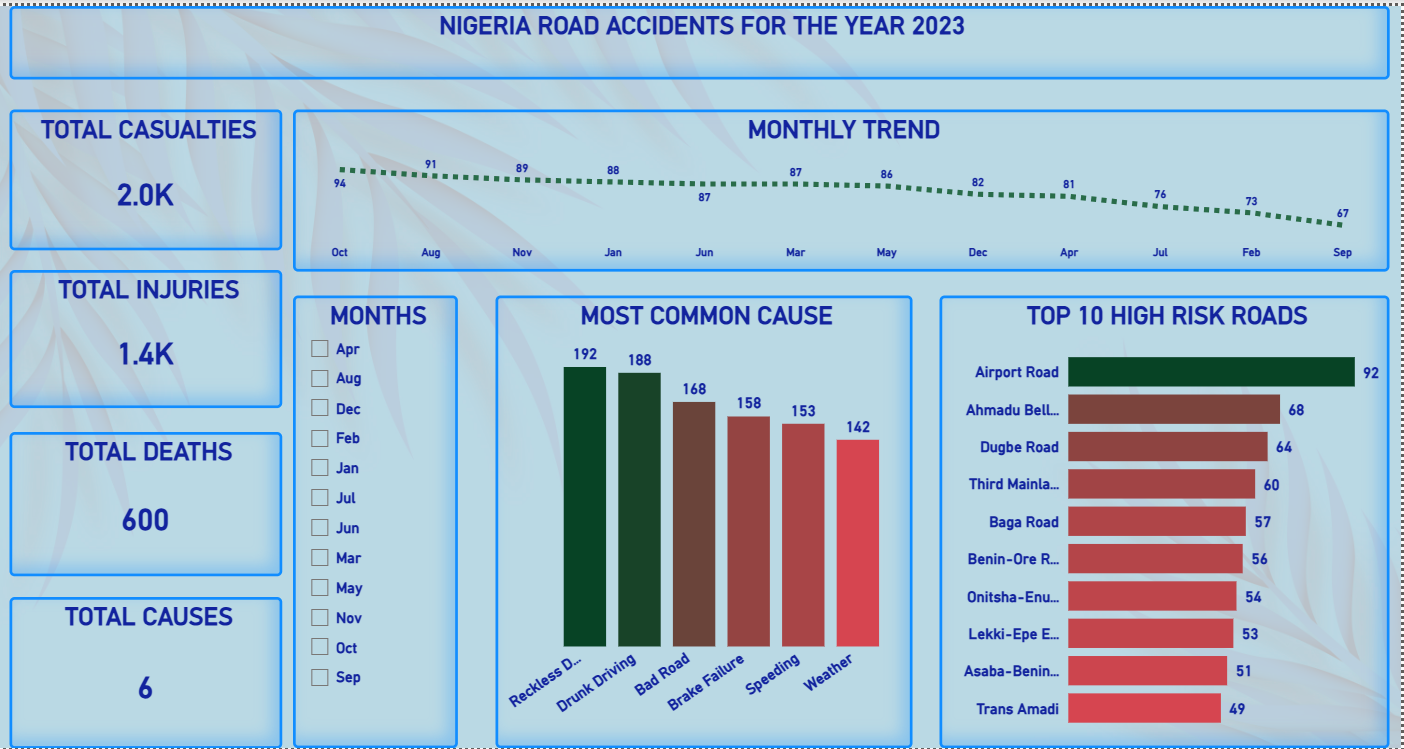

Layout of this report page (visuals, bound fields, positions):
{"tool":"powerbi","page":{"name":"Page 1","canvas":[1360,720],"ordinal":0},"visuals":[{"type":"cardVisual","title":"TOTAL CASUALTIES","fields":{"Data":["Sum(Nigerian_Road_Accident_Data_Wit.Casualties)"]},"box":[10.2,100.4,264.9,136.8],"z":0},{"type":"cardVisual","title":"TOTAL DEATHS","fields":{"Data":["Sum(Nigerian_Road_Accident_Data_Wit.Deaths)"]},"box":[10.2,413.4,264.9,139.7],"z":1000},{"type":"shape","title":"NIGERIA ROAD ACCIDENTS FOR THE YEAR 2023","box":[10.2,0,1339.1,71.3],"z":2000},{"type":"cardVisual","title":"TOTAL INJURIES","fields":{"Data":["Sum(Nigerian_Road_Accident_Data_Wit.Injuries)"]},"box":[10.2,256.2,264.9,133.9],"z":3000},{"type":"columnChart","title":"MOST COMMON CAUSE","fields":{"Category":["Nigerian_Road_Accident_Data_Wit.Cause"],"Y":["CountNonNull(Nigerian_Road_Accident_Data_Wit.Reported By)"]},"box":[481.8,280.9,404.6,439.6],"z":4000},{"type":"barChart","title":"TOP 10 HIGH RISK ROADS","fields":{"Category":["Nigerian_Road_Accident_Data_Wit.Road"],"Y":["CountNonNull(Nigerian_Road_Accident_Data_Wit.Reported By)"]},"box":[912.6,280.9,436.7,439.6],"z":5000},{"type":"slicer","title":"MONTHS","fields":{"Values":["Nigerian_Road_Accident_Data_Wit.Month"]},"box":[285.3,280.9,160.1,439.6],"z":6000},{"type":"lineChart","title":"MONTHLY TREND","fields":{"Category":["Nigerian_Road_Accident_Data_Wit.Month"],"Y":["CountNonNull(Nigerian_Road_Accident_Data_Wit.Reported By)"]},"box":[285.3,100.4,1064,157.2],"z":7000},{"type":"cardVisual","title":"TOTAL CAUSES","fields":{"Data":["Count(Nigerian_Road_Accident_Data_Wit.Cause)"]},"box":[10.2,573.5,264.9,147],"z":8000}]}

Visuals, with their boxes in screenshot pixels (x1, y1, x2, y2), scaled from the page's 1360x720 canvas onto the 1404x749 screenshot:
"TOTAL CASUALTIES" cardVisual: [left=11, top=104, right=284, bottom=247]
"TOTAL DEATHS" cardVisual: [left=11, top=430, right=284, bottom=575]
"NIGERIA ROAD ACCIDENTS FOR THE YEAR 2023" shape: [left=11, top=0, right=1393, bottom=74]
"TOTAL INJURIES" cardVisual: [left=11, top=267, right=284, bottom=406]
"MOST COMMON CAUSE" columnChart: [left=497, top=292, right=915, bottom=748]
"TOP 10 HIGH RISK ROADS" barChart: [left=942, top=292, right=1393, bottom=748]
"MONTHS" slicer: [left=295, top=292, right=460, bottom=748]
"MONTHLY TREND" lineChart: [left=295, top=104, right=1393, bottom=268]
"TOTAL CAUSES" cardVisual: [left=11, top=597, right=284, bottom=748]
